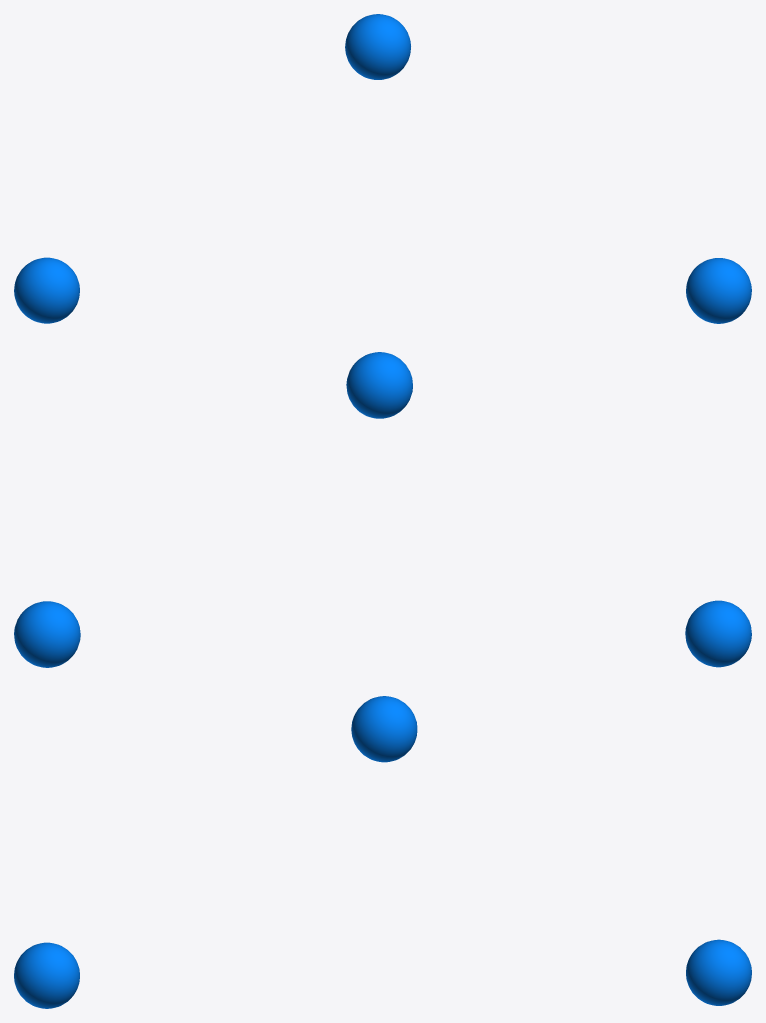
3 views of the same model, one above another, from view 1: azimuth 30°, elevation 25°; view 2: azimuth 150°, elevation 25°; view 3: azimuth 270°, elevation 25° (orthographic).
Parts seen in each view (by area): view 1: Sphere047; view 2: Sphere047; view 3: Sphere047.
Boxes of the visible parts, x1,y1,x2,y2 form: Sphere047: (14,14,751,323); Sphere047: (14,352,751,667); Sphere047: (14,696,751,1008).
Bounding box in the file's own units: 80.46 × 8.22 × 91.44.
